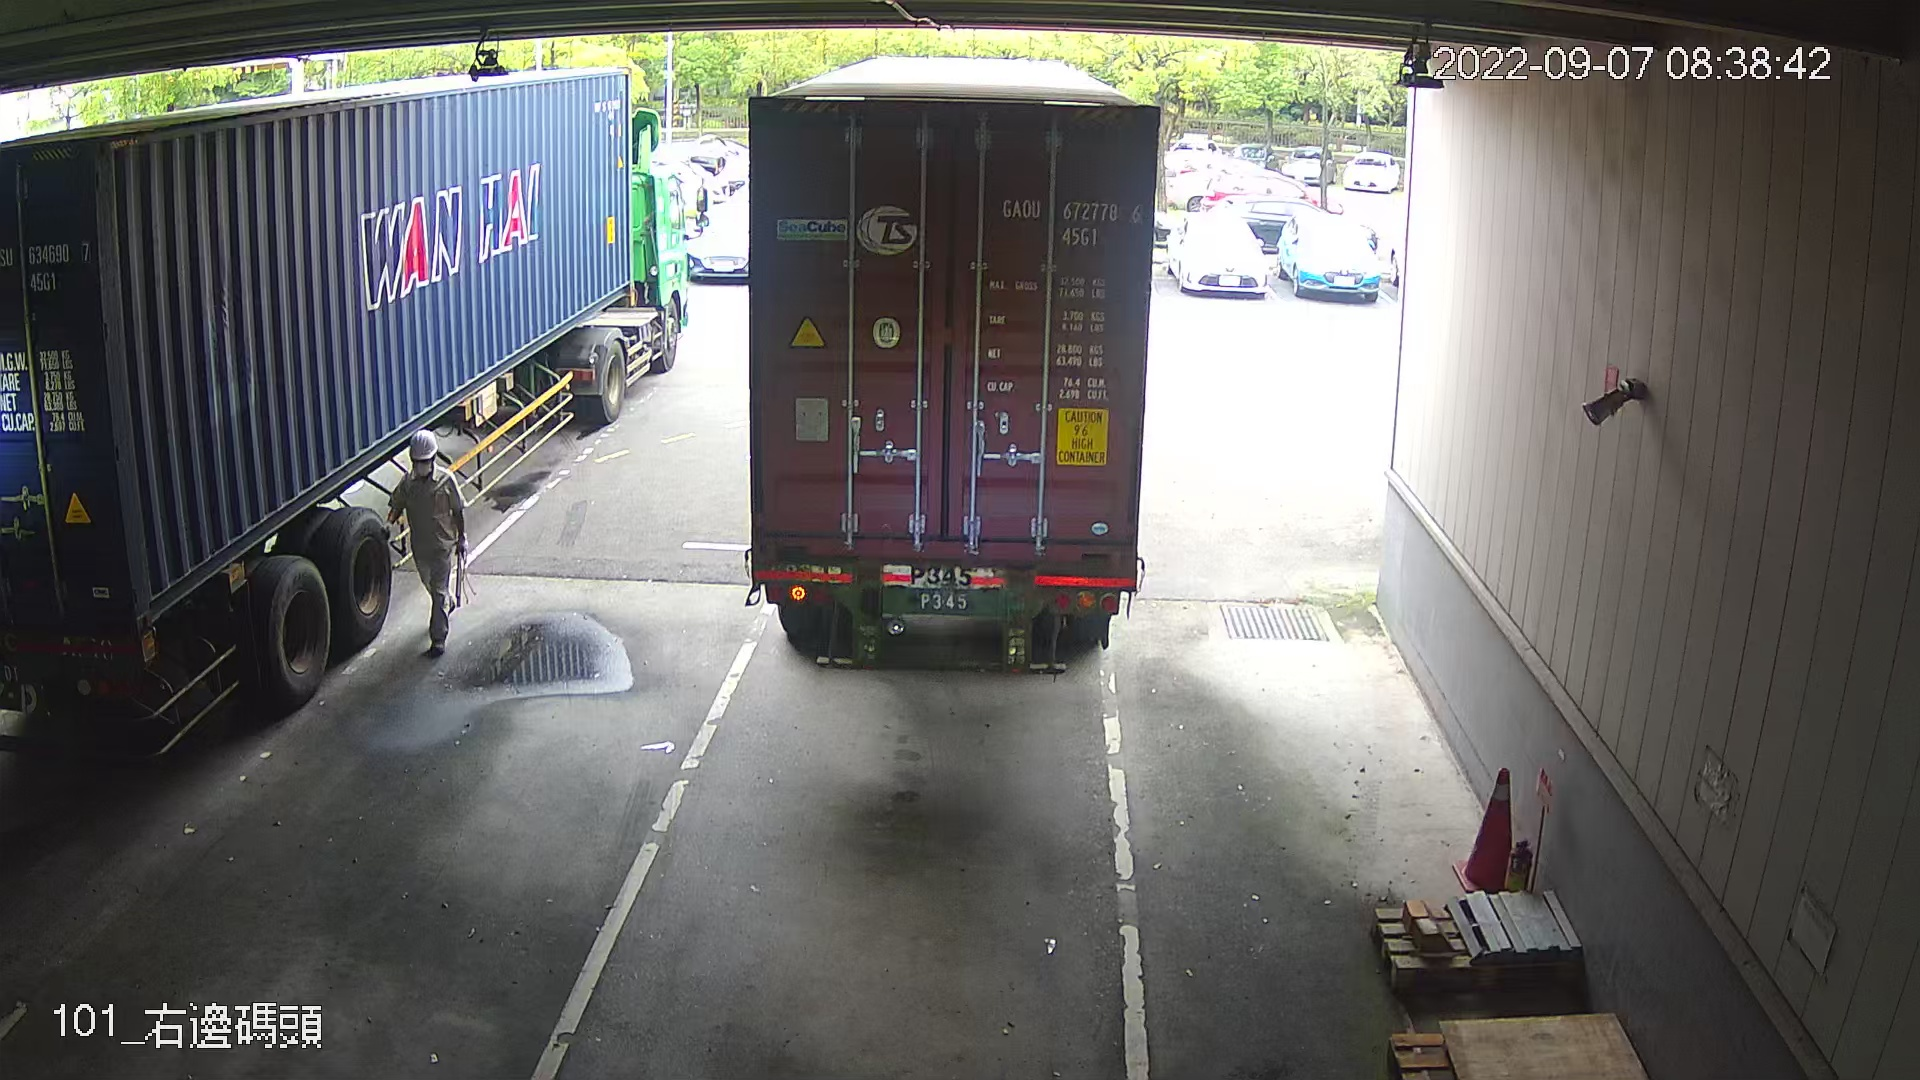container: (992, 189, 1150, 252)
